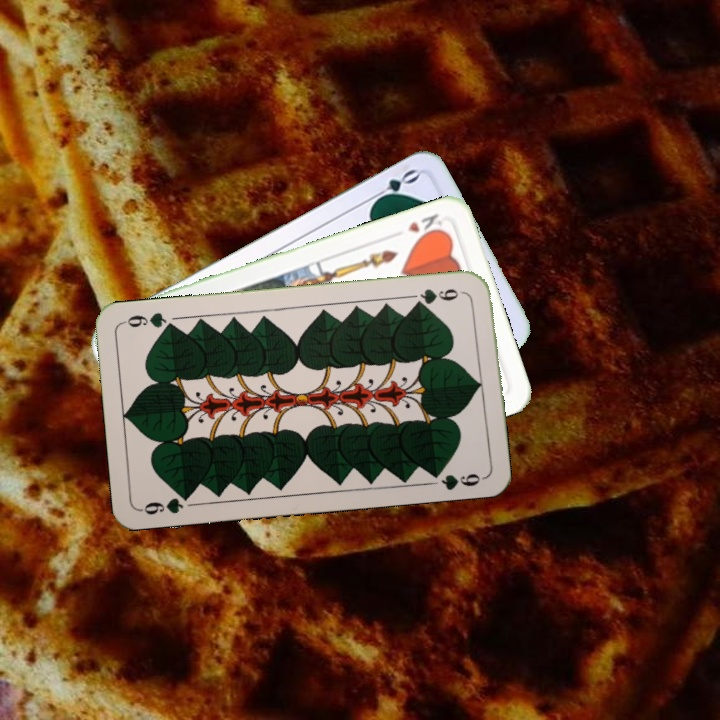G9: (137, 489, 195, 518), (409, 284, 468, 309)
GO: (366, 164, 422, 207)
HK: (403, 209, 446, 242)
